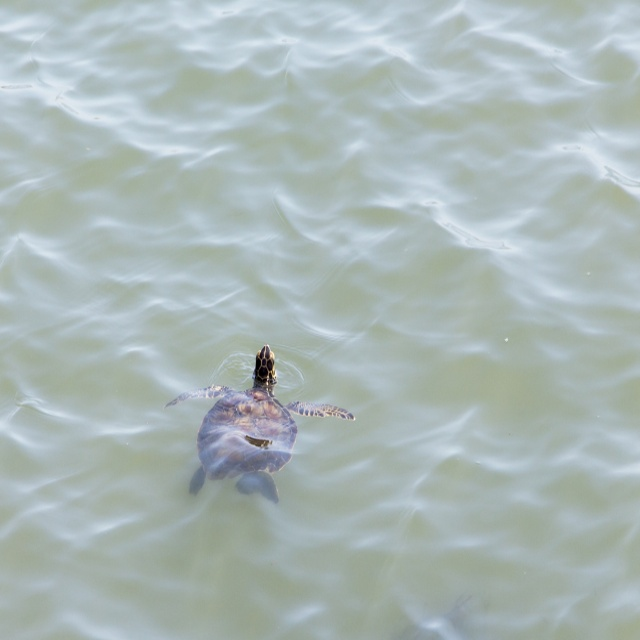Sea turtle: (164, 341, 354, 504)
